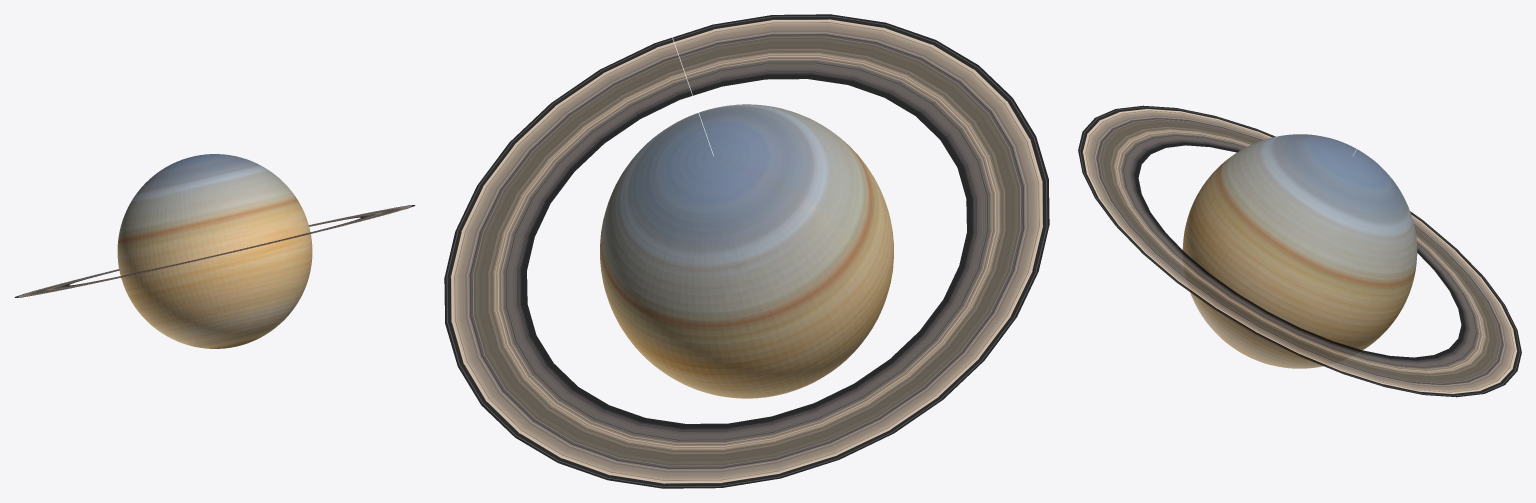
File: saturn.glb
3 views of the same model, side by side, from view 1: azimuth 30°, elevation 25°; view 2: azimuth 150°, elevation 25°; view 3: azimuth 270°, elevation 25° (orthographic). The views are drawn at different scales.
Visible parts, largest first — view 1: Sphere, Circle.001; view 2: Circle.001, Sphere; view 3: Sphere, Circle.001.
Boxes of the visible parts, x1=… form: Sphere: x1=117, y1=154, x2=312, y2=348; Circle.001: x1=14, y1=205, x2=415, y2=297; Circle.001: x1=444, y1=14, x2=1049, y2=488; Sphere: x1=600, y1=104, x2=893, y2=398; Sphere: x1=1182, y1=134, x2=1417, y2=368; Circle.001: x1=1078, y1=105, x2=1521, y2=397.
Bounding box in the file's own units: 4.24 × 4.47 × 3.78.
Materials: 3 (2 with a texture image).
